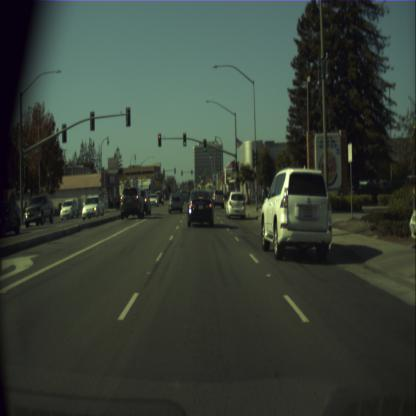Green: (183, 132, 186, 146), (203, 138, 206, 150), (236, 165, 238, 174), (199, 174, 200, 178), (191, 170, 192, 174)
Red: (158, 132, 162, 146), (46, 172, 50, 184), (181, 170, 182, 175)
